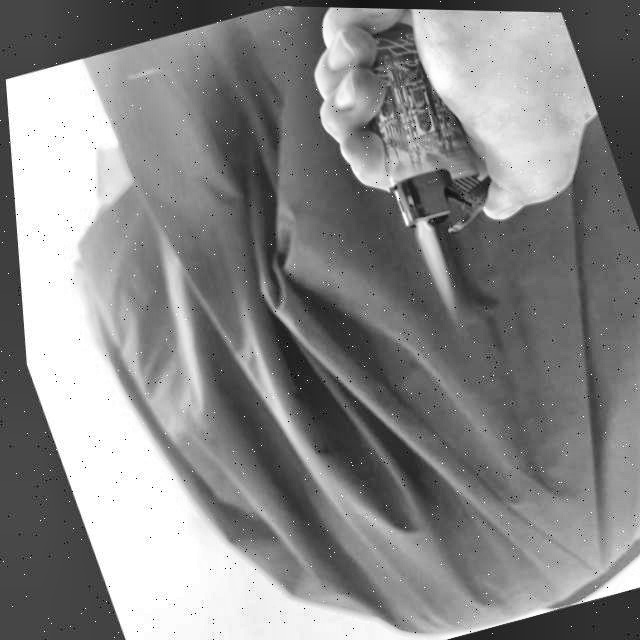Fire: (410, 221, 460, 306)
